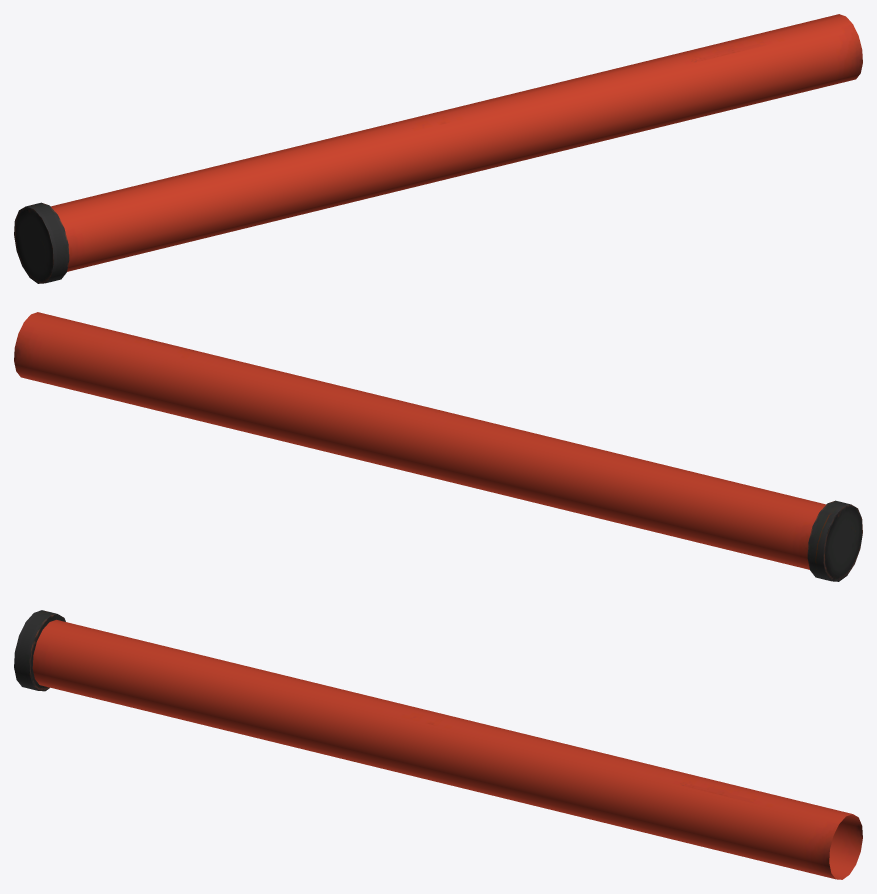
Rendered from Redpipe_Tile.dae.
3 renders of one model, top to bottom at view 1: azimuth 30°, elevation 25°; view 2: azimuth 150°, elevation 25°; view 3: azimuth 330°, elevation 25°, orthographic.
Parts seen in each view (by area): view 1: polySurface398; view 2: polySurface398; view 3: polySurface398.
Part boxes in pixels (x1,y1,x2,y2): polySurface398: [14, 14, 862, 283]; polySurface398: [14, 312, 862, 581]; polySurface398: [14, 610, 862, 879].
Bounding box in the file's own units: 5 × 0.4216 × 0.424.
1 material, 1 textured.
